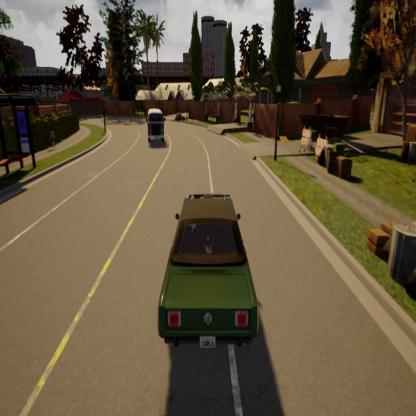Cars: (155, 182, 265, 362), (137, 101, 179, 162)
